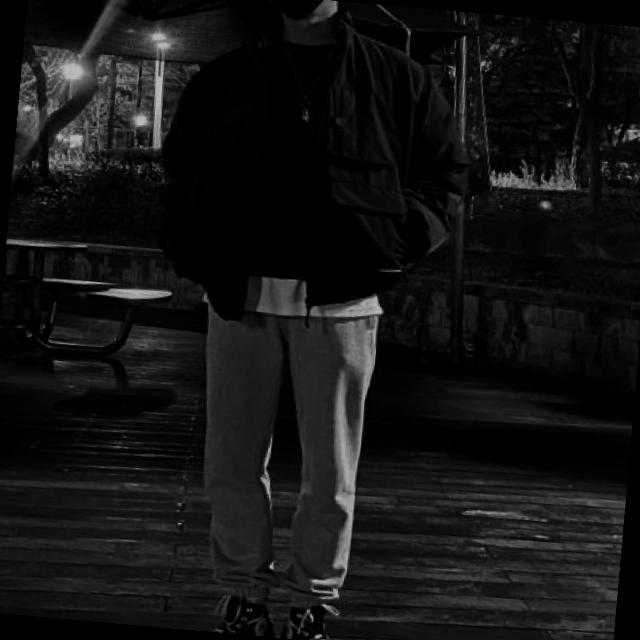padding: (145, 5, 472, 339)
trainingpants: (182, 293, 378, 610)
